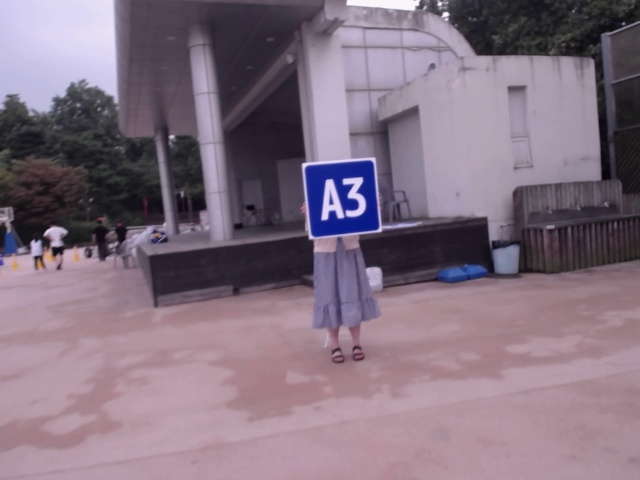delivery_a3: (303, 159, 381, 238)
